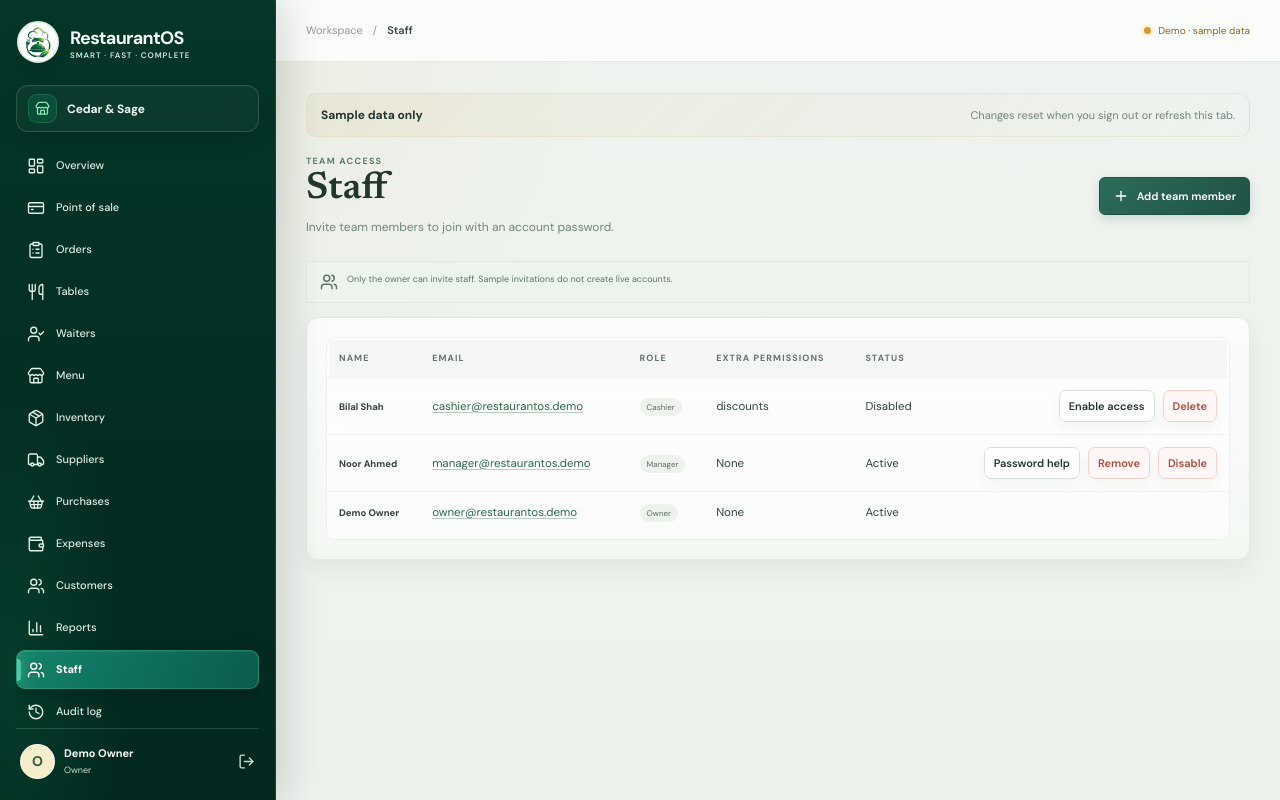
Test: authentication routes › hides removed staff and lets the owner re-enable disabled staff
The image size is (1280, 800).
Check: the text "Bilal Shah" is shown, box x1=339 y1=401 x2=384 y2=413
Click the button "Enable access". click: coordinates (1107, 406)
box: x1=1059 y1=390 x2=1155 y2=422
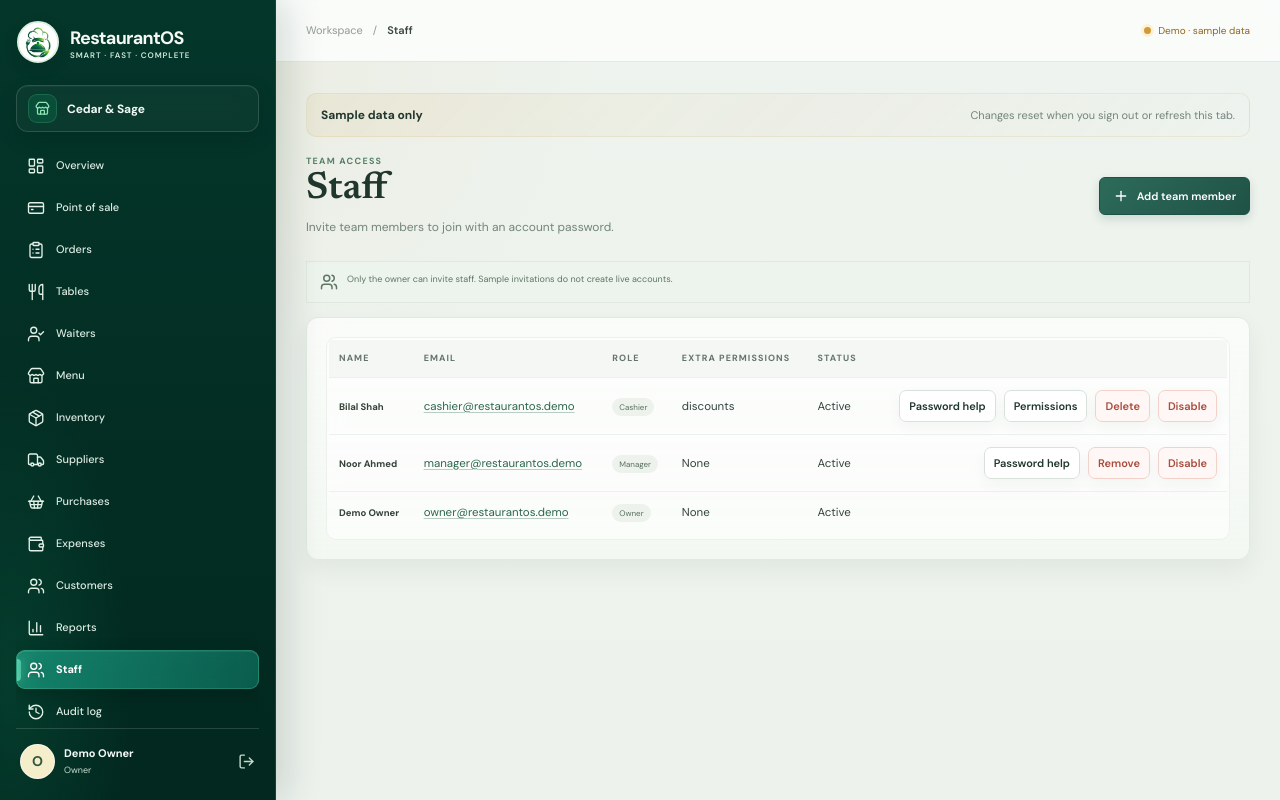
Check: the text "Active" in the row of "Bilal Shah" is shown, box x1=818 y1=399 x2=851 y2=414
